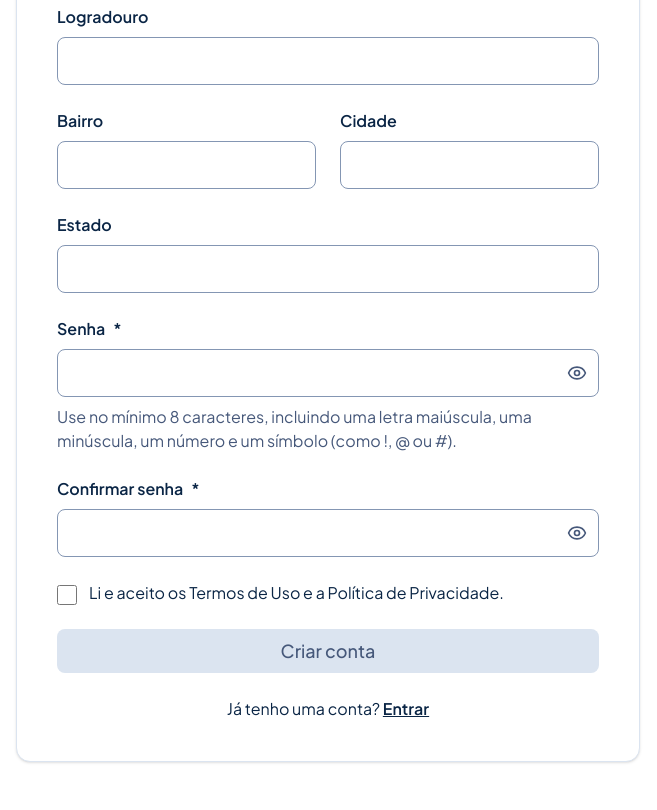
Scenario: ProfessionalRegister - Testes de Integração, Validação e Cobertura › deve exibir mensagens de erro e aplicar foco no primeiro campo inválido ao submeter
This screenshot has width=657, height=810.
(page scrolled)
Click the checkbox labelled "Li e aceito os Termos de Uso e a Política de Privacidade.".
click(67, 595)  # box [57,585,77,605]
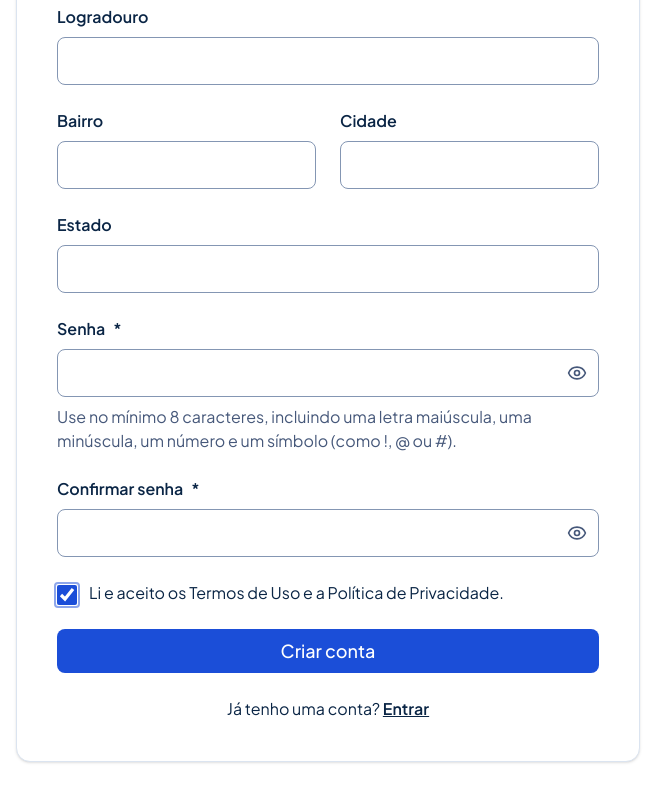
Click the button "Criar conta".
click(328, 651)  # box [57,629,599,673]
(page scrolled)
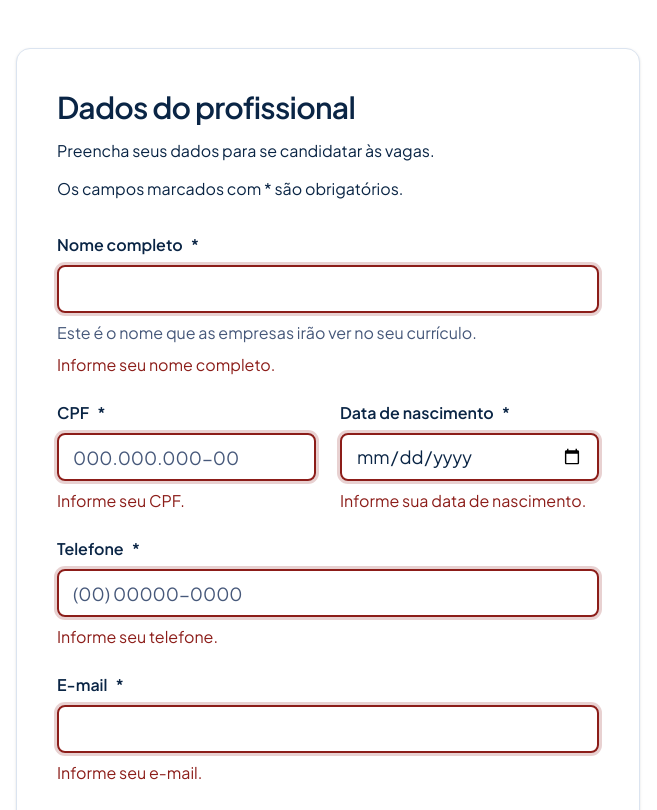
Check: the text "Informe seu nome completo." is shown, box [57,354,275,375]
Check: the text "Informe seu CPF." is shown, box [57,490,185,511]
